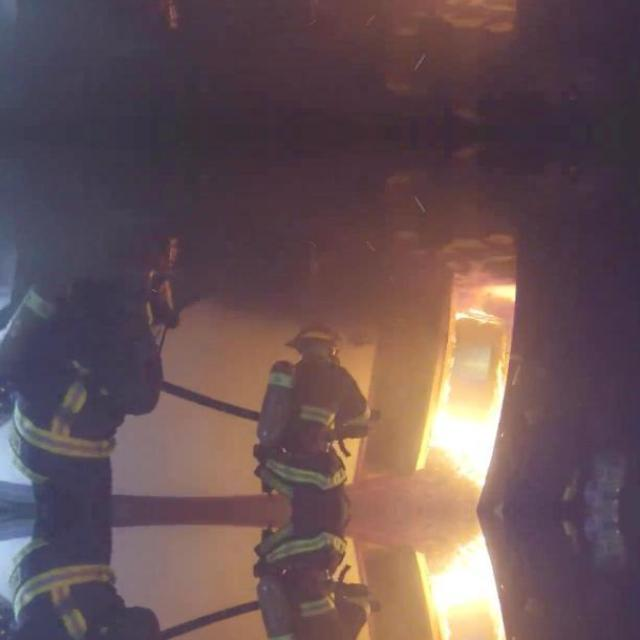smoke: (430, 344, 508, 491), (431, 531, 508, 640)
